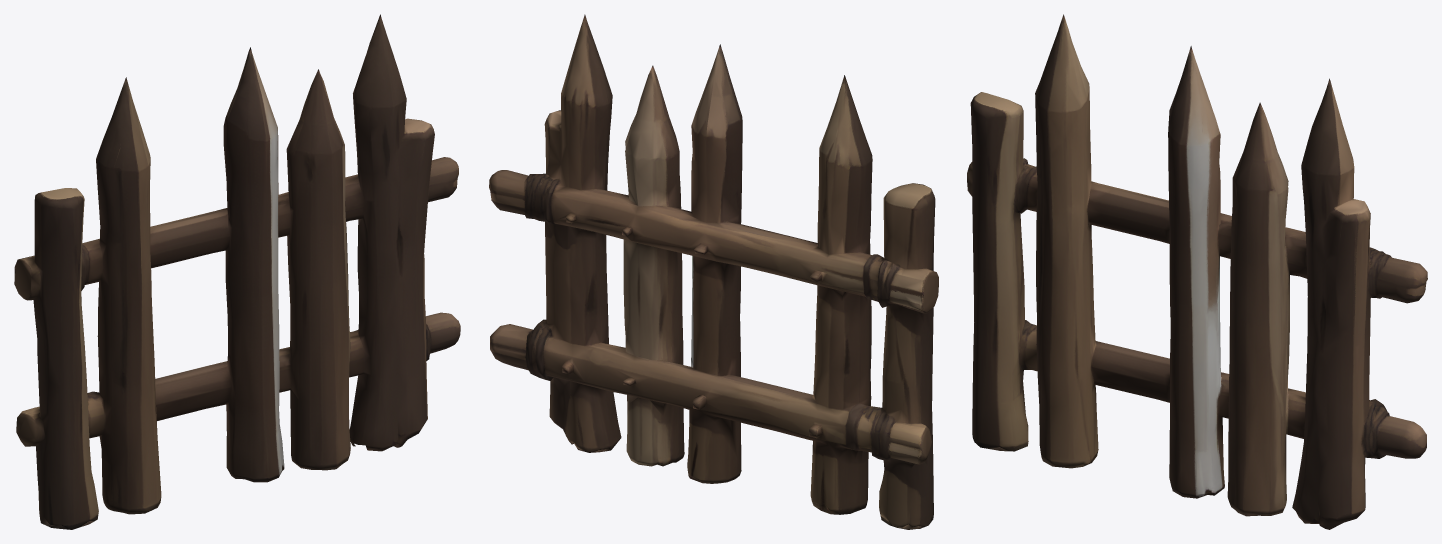
Rendered from palisade_segment.glb.
3 renders of one model, left to right at view 1: azimuth 30°, elevation 25°; view 2: azimuth 150°, elevation 25°; view 3: azimuth 330°, elevation 25°, orthographic. The views are drawn at different scales.
Parts seen in each view (by area): view 1: world; view 2: world; view 3: world.
Part boxes in pixels (x1,y1,x2,y2): world: (14, 14, 460, 529); world: (489, 14, 938, 529); world: (967, 14, 1427, 529).
Bounding box in the file's own units: 1 × 0.9429 × 0.1677.
Materials: 1 (1 with a texture image).
